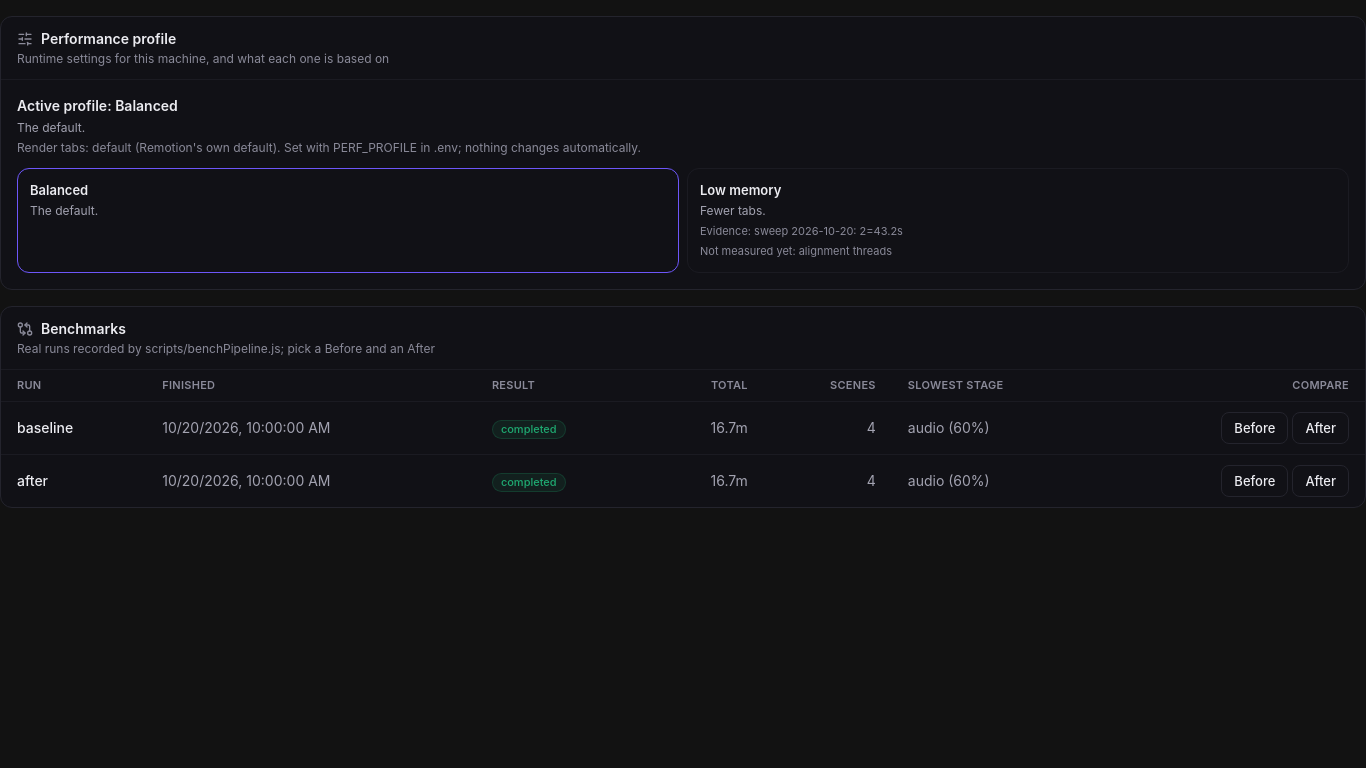
Test: PerformancePanel - benchmarks › does not compare a run with itself
Expected: the text "baseline" is shown, [17, 419, 73, 436]
Step 1. Click the button with aria-label "Use baseline as before" → (1255, 428), box [1221, 412, 1288, 444]
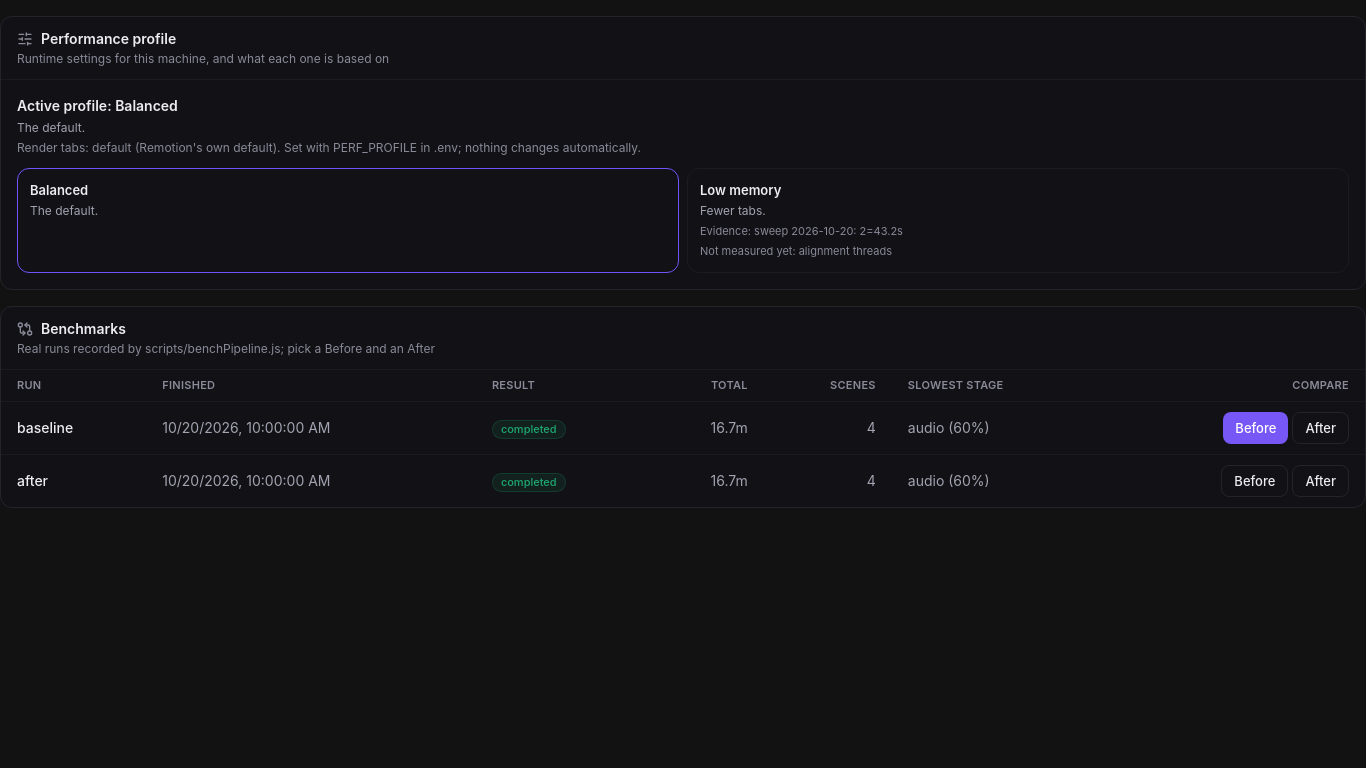
Step 2. Click the button with aria-label "Use baseline as after" → (1321, 428), box [1292, 412, 1349, 444]
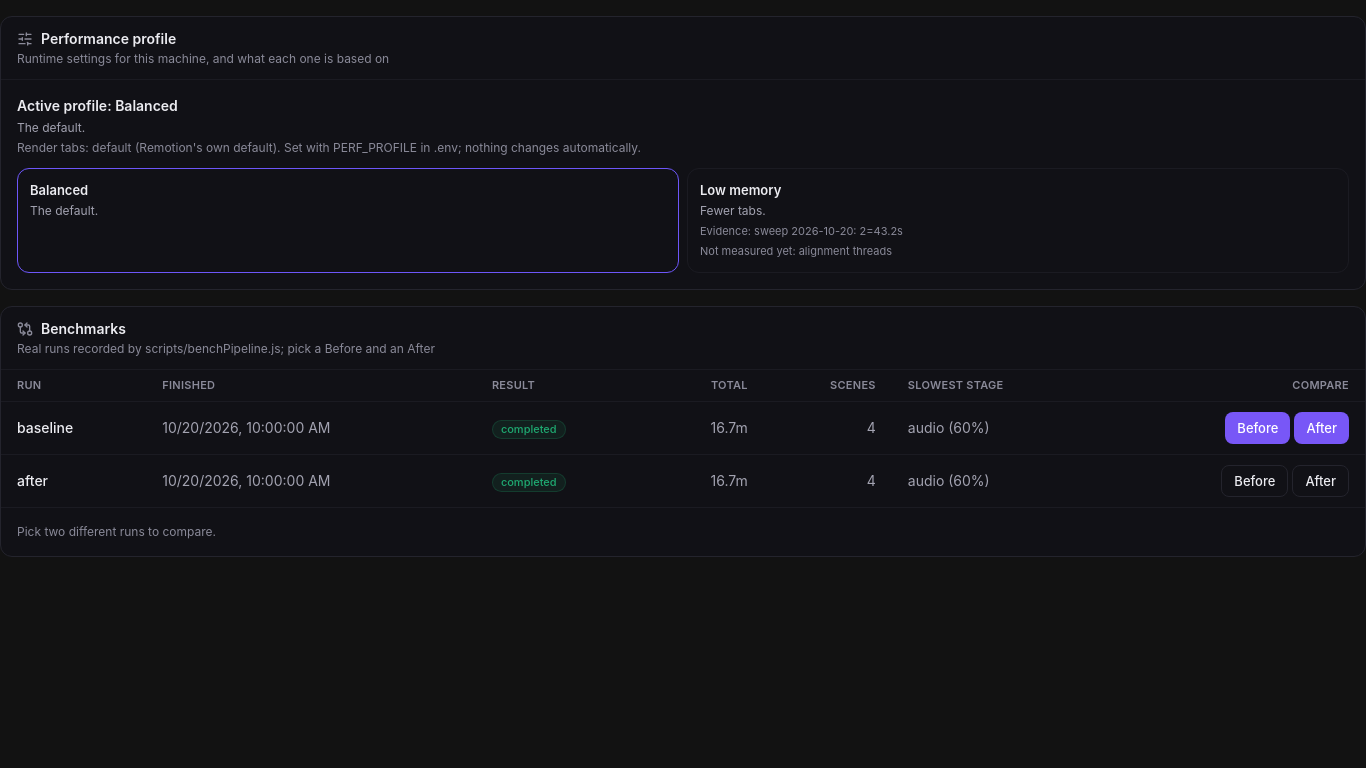
Now the text "Pick two different runs to compare." is shown, box [1, 507, 1365, 556]
